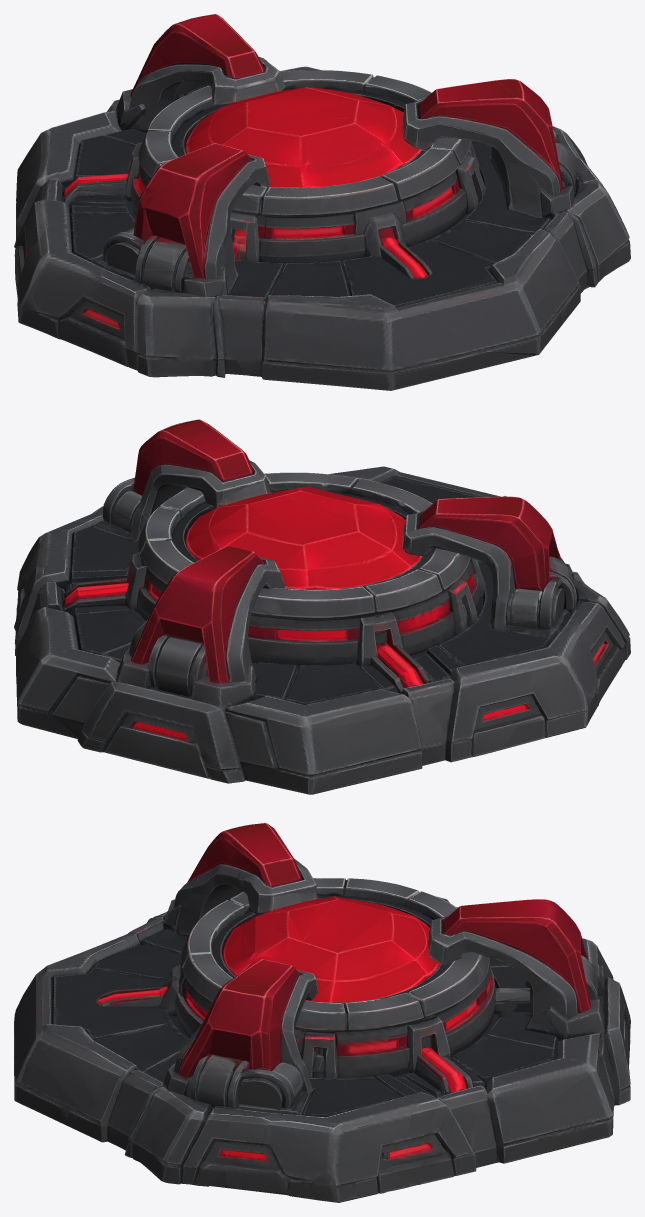
Rendered from red-inhibitor.glb.
3 views of the same model, one above another, from view 1: azimuth 30°, elevation 25°; view 2: azimuth 150°, elevation 25°; view 3: azimuth 270°, elevation 25° (orthographic).
Parts seen in each view (by area): view 1: Mesh_0; view 2: Mesh_0; view 3: Mesh_0.
Part boxes in pixels (bbox=[...]): Mesh_0: bbox=[14, 14, 630, 390]; Mesh_0: bbox=[14, 419, 630, 794]; Mesh_0: bbox=[14, 823, 630, 1202].
Bounding box in the file's own units: 4.45 × 1.2 × 4.21.
1 material, 1 textured.
